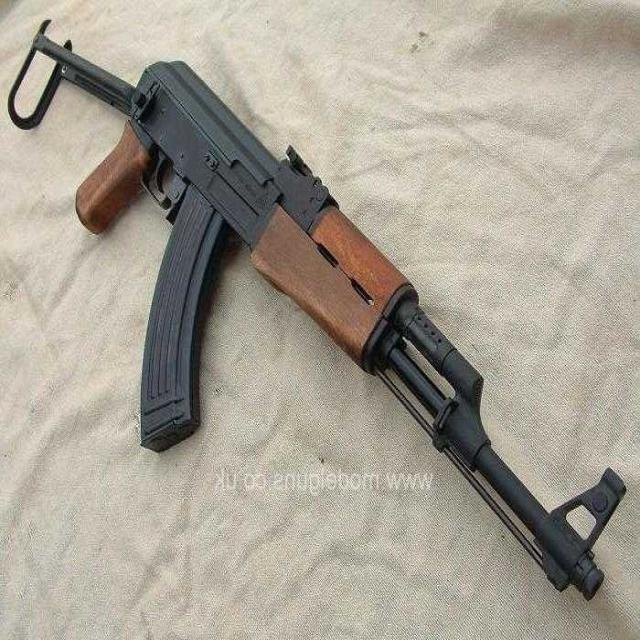heavyweapon: (12, 21, 624, 617)
